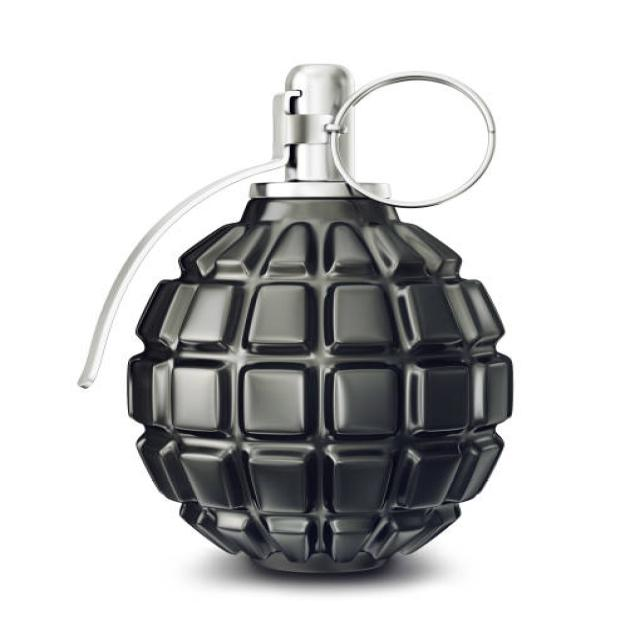grenade: (77, 49, 518, 589)
